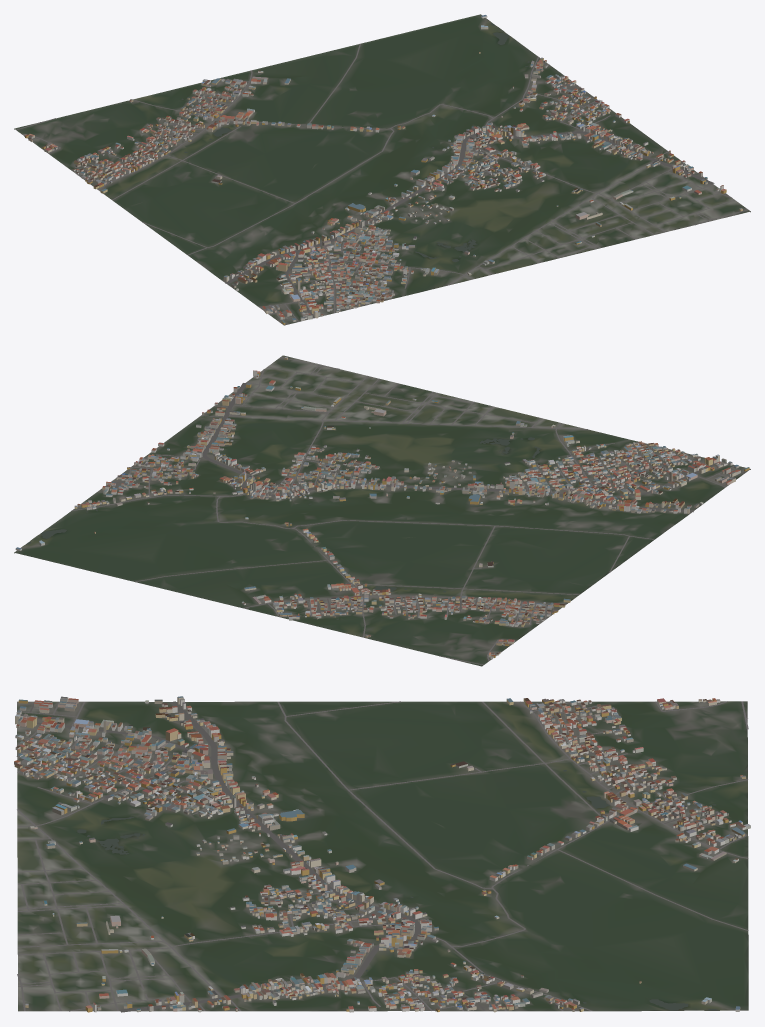
The picture shows the model from 3 angles, top to bottom: view 1: azimuth 30°, elevation 25°; view 2: azimuth 150°, elevation 25°; view 3: azimuth 270°, elevation 25°; orthographic projection. The views are drawn at different scales.
Parts seen in each view (by area): view 1: ground, buildings, roads, water; view 2: ground, buildings, roads, water; view 3: ground, buildings, roads, water.
Part boxes in pixels (x1=…): ground: x1=14, y1=14, x2=750, y2=325; buildings: x1=24, y1=15, x2=742, y2=324; roads: x1=16, y1=43, x2=748, y2=321; water: x1=181, y1=22, x2=561, y2=262; ground: x1=14, y1=355, x2=750, y2=666; buildings: x1=15, y1=357, x2=749, y2=659; roads: x1=71, y1=357, x2=743, y2=665; water: x1=26, y1=437, x2=540, y2=619; ground: x1=17, y1=701, x2=748, y2=1011; buildings: x1=14, y1=696, x2=750, y2=1012; roads: x1=16, y1=701, x2=748, y2=1012; water: x1=77, y1=770, x2=717, y2=1010.
Bounding box in the file's own units: 1416 × 30.79 × 1414.
